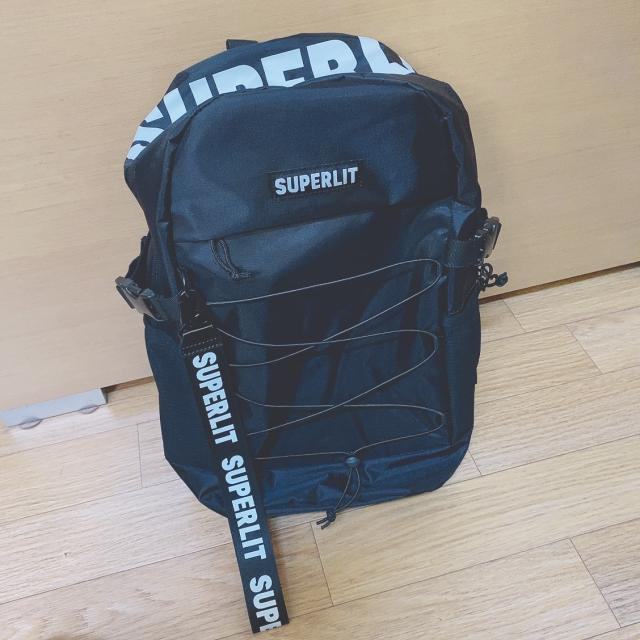backpack: (96, 12, 521, 541)
